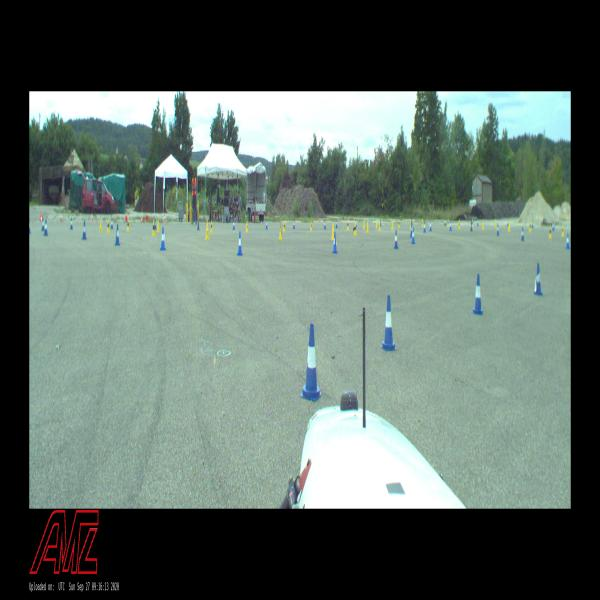blue_cone: (301, 327, 320, 397), (380, 298, 395, 350), (471, 274, 484, 314), (534, 263, 543, 295), (237, 231, 243, 256), (160, 227, 166, 250), (115, 226, 120, 245), (82, 222, 87, 240), (333, 232, 337, 253), (394, 230, 398, 248), (44, 219, 48, 236), (411, 228, 415, 244), (566, 234, 570, 249), (423, 220, 426, 233), (496, 224, 499, 236), (197, 219, 200, 231), (265, 219, 268, 230), (70, 218, 73, 229), (429, 220, 432, 231), (470, 220, 473, 231), (29, 218, 31, 234), (522, 227, 524, 241), (552, 222, 555, 231), (42, 218, 44, 230), (335, 220, 338, 228), (410, 224, 412, 236), (233, 219, 235, 230), (450, 220, 452, 231), (324, 220, 326, 229), (444, 218, 446, 226), (380, 219, 382, 226), (155, 219, 156, 230), (293, 220, 294, 229), (477, 219, 478, 226)
orange_cone: (163, 214, 166, 222), (60, 213, 62, 221), (91, 213, 93, 221)
yellow_cone: (278, 226, 283, 242), (205, 226, 209, 239), (152, 220, 155, 237), (331, 224, 334, 240), (107, 219, 110, 234), (549, 226, 552, 240), (127, 219, 130, 232), (354, 222, 357, 235), (210, 221, 213, 232), (529, 221, 532, 232), (366, 221, 369, 232), (100, 218, 102, 232), (157, 220, 159, 232), (562, 226, 564, 237), (458, 219, 460, 230), (508, 220, 510, 231), (310, 220, 312, 231), (283, 221, 285, 232), (482, 219, 484, 230), (280, 222, 282, 233), (246, 221, 248, 232), (398, 219, 400, 228), (495, 219, 497, 228), (363, 220, 365, 229), (421, 218, 423, 227), (447, 218, 449, 227), (392, 219, 393, 230), (379, 220, 380, 231), (347, 220, 348, 230), (410, 219, 411, 229), (376, 220, 377, 228)
